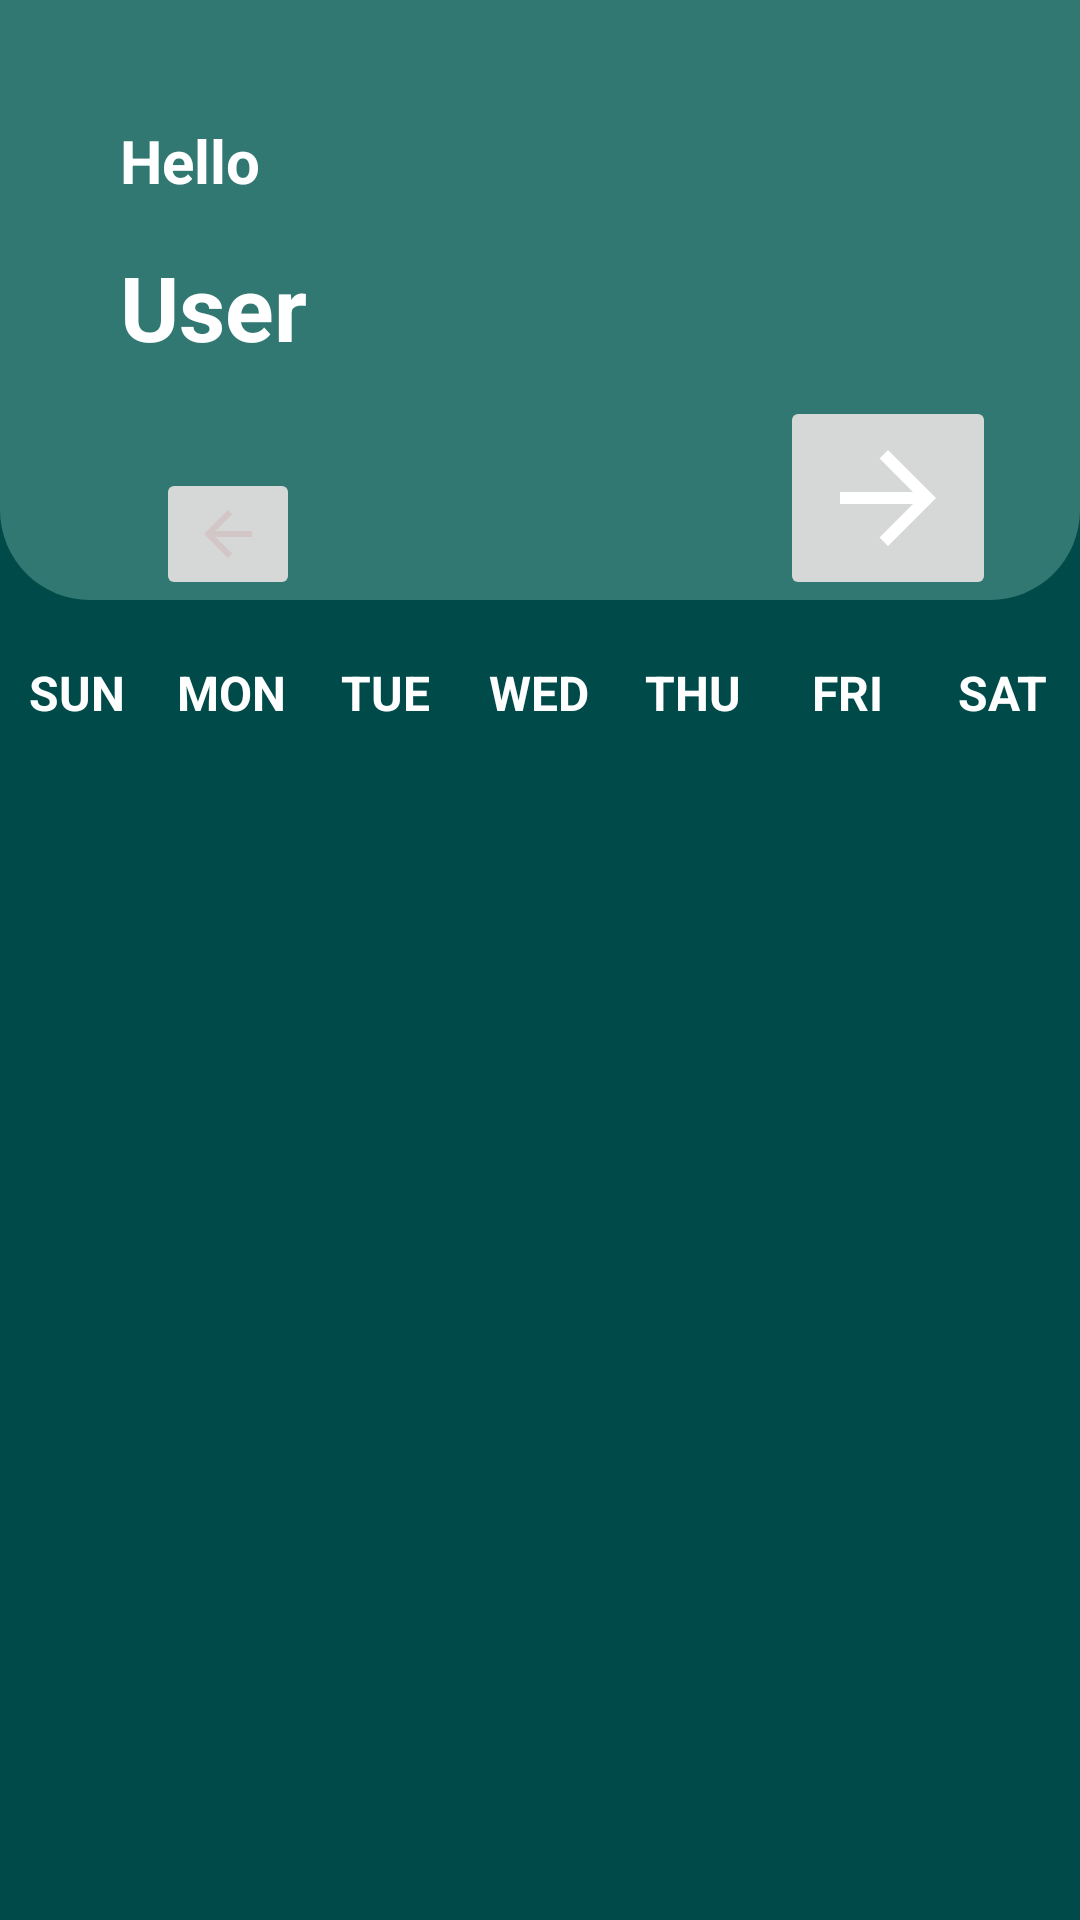

Named icons in this screenshot (1080 × 1920) and their centers, [x,y]:
Next Week: [888,498]
